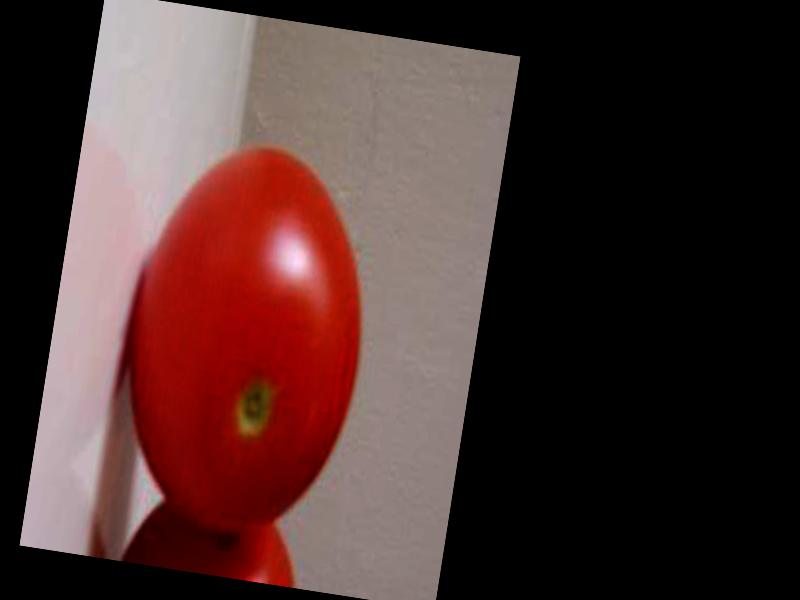Tomato: (106, 131, 387, 543)
